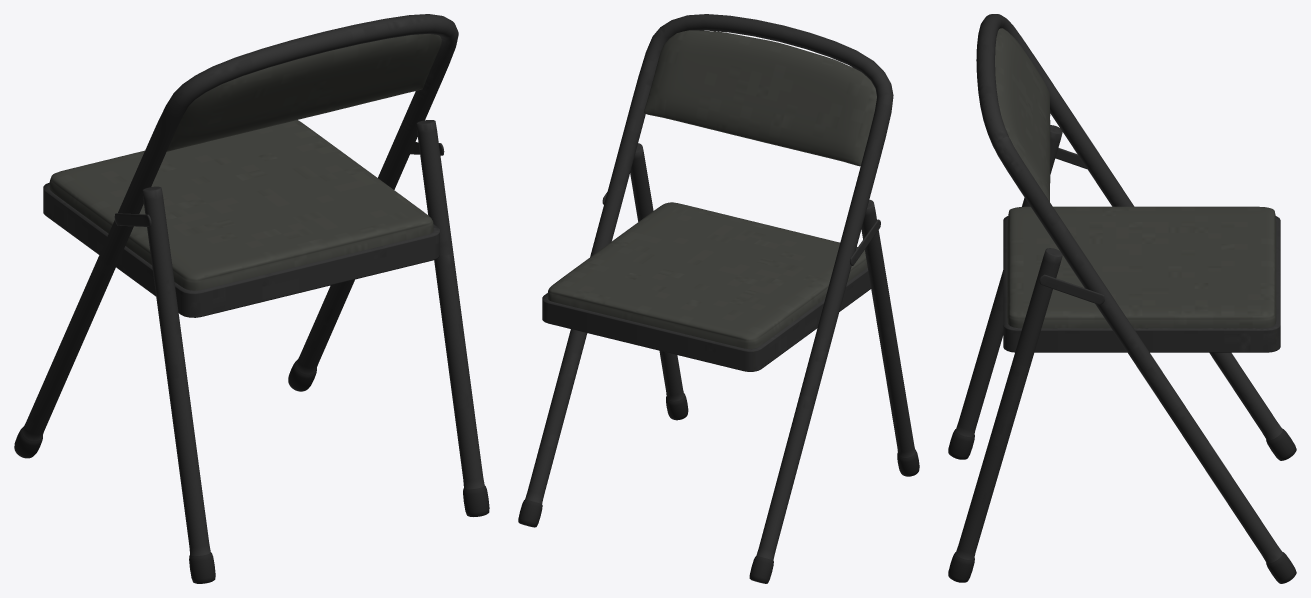
Rendered from Chair36.glb.
3 views of the same model, side by side, from view 1: azimuth 30°, elevation 25°; view 2: azimuth 150°, elevation 25°; view 3: azimuth 270°, elevation 25° (orthographic). The views are drawn at different scales.
Parts seen in each view (by area): view 1: Chair36_model; view 2: Chair36_model; view 3: Chair36_model.
Boxes of the visible parts, x1,y1,x2,y2 form: Chair36_model: (14, 14, 489, 583); Chair36_model: (518, 14, 919, 583); Chair36_model: (948, 14, 1296, 583).
Bounding box in the file's own units: 1.03 × 1.69 × 1.14.
Materials: 1 (1 with a texture image).
